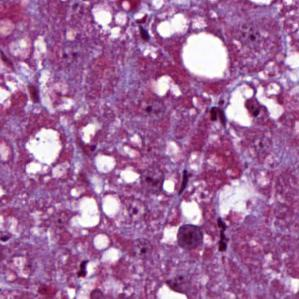inflammation: (174, 221, 209, 254), (206, 101, 230, 126), (243, 93, 263, 122), (134, 25, 154, 48)
